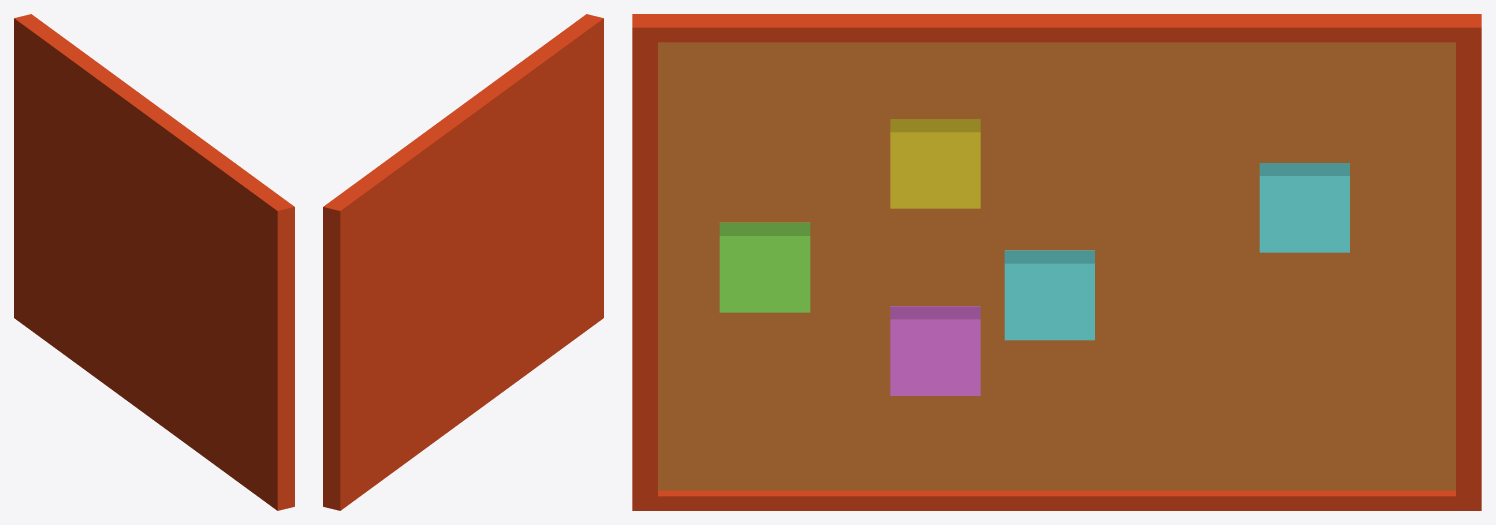
Rendered from noteboard.fbx.
3 renders of one model, left to right at view 1: azimuth 30°, elevation 25°; view 2: azimuth 150°, elevation 25°; view 3: azimuth 270°, elevation 25°, orthographic. The views are drawn at different scales.
Parts seen in each view (by area): view 1: Cube.005; view 2: Cube.005; view 3: Cube.005.
Boxes of the visible parts, x1=… form: Cube.005: x1=14, y1=14, x2=294, y2=510; Cube.005: x1=323, y1=14, x2=603, y2=510; Cube.005: x1=632, y1=14, x2=1481, y2=510.
Bounding box in the file's own units: 50.38 × 714 × 1137.
